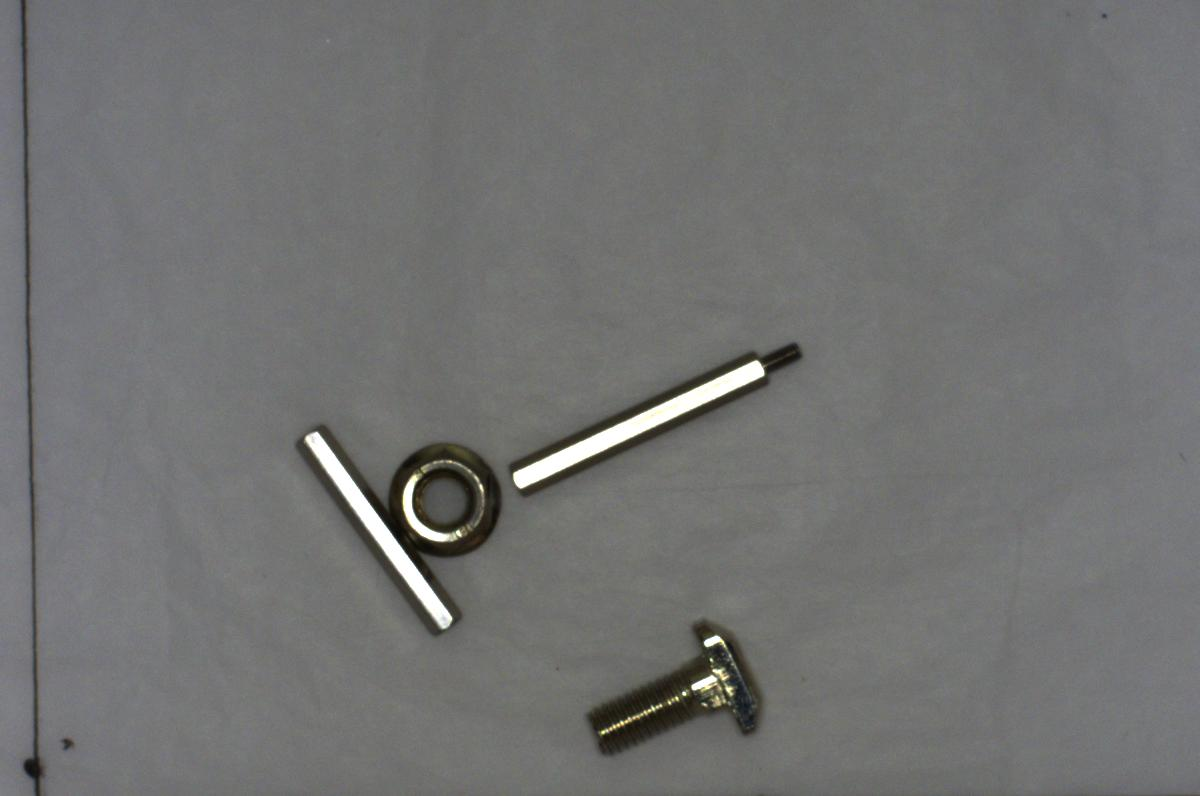Double hexagonal column: (287, 416, 458, 645)
Flange nut: (380, 440, 510, 556)
Hexagonal steel column: (517, 342, 801, 495)
T-shaped screw: (566, 607, 772, 761)
